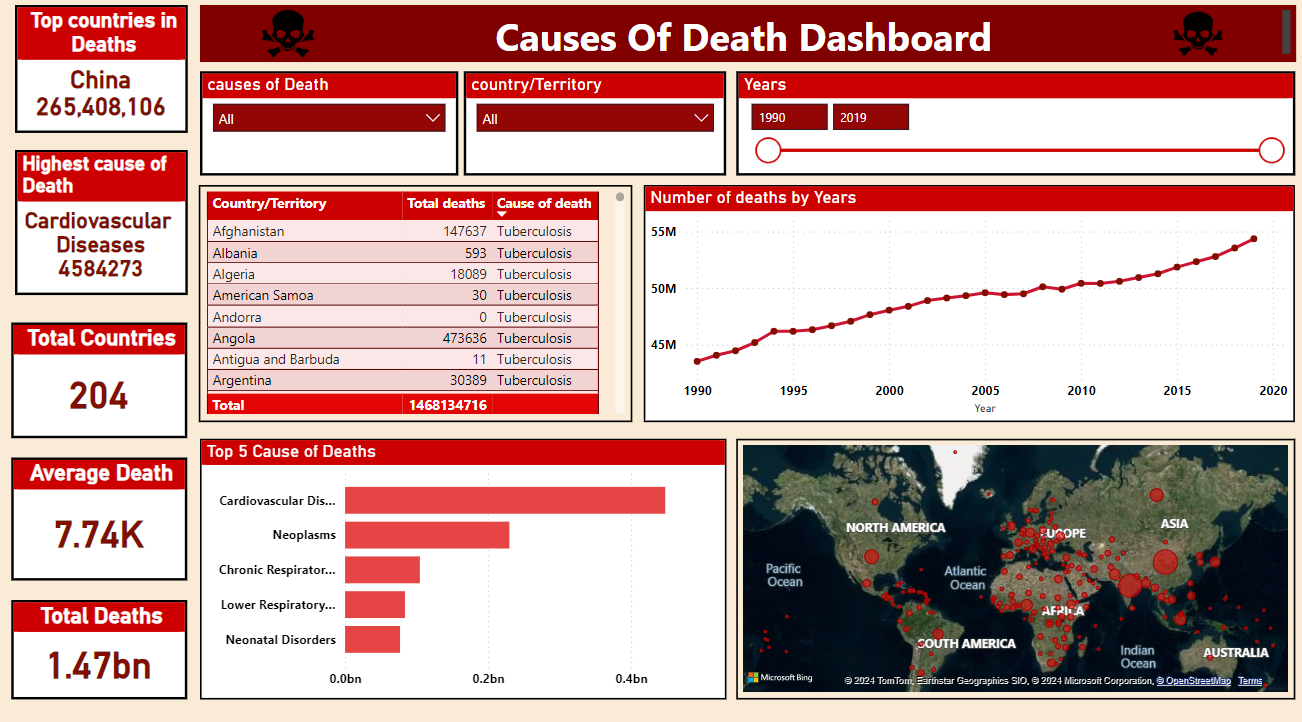

The dashboard page shown, as its layout file describes it:
{"tool":"powerbi","page":{"name":"Page 1","canvas":[1280,720],"ordinal":0},"visuals":[{"type":"lineChart","title":"Number of deaths by Years","fields":{"Category":["Causes of death (Cleaned).Year"],"Y":["Sum(Causes of death (Cleaned).number of deaths)"]},"box":[631.5,191.2,639.3,232.4],"z":1000},{"type":"tableEx","fields":{"Values":["Causes of death (Cleaned).Country/Territory","Sum(Causes of death (Cleaned).number of deaths)","Causes of death (Cleaned).Cause of death"]},"box":[195.1,191.2,425.6,232.4],"z":2000},{"type":"map","fields":{"Size":["Sum(Causes of death (Cleaned).number of deaths)"],"Category":["Causes of death (Cleaned).Country/Territory"]},"box":[722.9,440.6,548.6,256.3],"z":3000},{"type":"slicer","title":"country/Territory","fields":{"Values":["Causes of death (Cleaned).Country/Territory"]},"box":[455,79.4,258,102],"z":4000},{"type":"slicer","title":"Years","fields":{"Values":["Causes of death (Cleaned).Year"]},"box":[722.8,79.4,548.5,102],"z":5000},{"type":"card","title":"Total Countries","fields":{"Values":["Count(Causes of death (Cleaned).Country/Territory)"]},"box":[11.5,326.9,172.8,113.8],"z":6000},{"type":"textbox","box":[195.8,14.4,1075.7,56.2],"z":7000},{"type":"barChart","title":"Top 5 Cause of Deaths","fields":{"Y":["Sum(Causes of death (Cleaned).number of deaths)"],"Category":["Causes of death (Cleaned).Cause of deat"]},"box":[195.8,440.6,517,256.3],"z":8000},{"type":"card","title":"Average Death","fields":{"Values":["Avg(Causes of death (Cleaned).number of deaths)"]},"box":[11.5,459.4,172.8,121],"z":9000},{"type":"card","title":"Total Deaths","fields":{"Values":["Sum(Causes of death (Cleaned).number of deaths)"]},"box":[11.5,599,172.8,97.9],"z":10000},{"type":"image","box":[252,14.4,61.9,56.2],"z":11000},{"type":"image","box":[1147.7,14.4,57.6,56.2],"z":12000},{"type":"card","title":"Highest cause of Death","fields":{"Values":["Causes of death (Cleaned).HighestCauseAndit'sValue"]},"box":[14.4,157,169.9,142.6],"z":13000},{"type":"card","title":"Top countries in Deaths","fields":{"Values":["Causes of death (Cleaned).Top Country Deaths"]},"box":[14.4,14.4,169.9,125.3],"z":14000},{"type":"slicer","title":"causes of Death","fields":{"Values":["Causes of death (Cleaned).Cause of deat"]},"box":[195.8,79.2,253.4,102.2],"z":14500}]}

Visuals, with their boxes in screenshot pixels (x1, y1, x2, y2), scaled from the page's 1280x720 canvas onto the 1302x722 screenshot:
"Number of deaths by Years" lineChart: bbox=[642, 192, 1293, 425]
tableEx - Causes of death (Cleaned).Country/Territory x Sum(Causes of death (Cleaned).number of deaths): bbox=[198, 192, 631, 425]
map - Sum(Causes of death (Cleaned).number of deaths) x Causes of death (Cleaned).Country/Territory: bbox=[735, 442, 1293, 699]
"country/Territory" slicer: bbox=[463, 80, 725, 182]
"Years" slicer: bbox=[735, 80, 1293, 182]
"Total Countries" card: bbox=[12, 328, 187, 442]
textbox: bbox=[199, 14, 1293, 71]
"Top 5 Cause of Deaths" barChart: bbox=[199, 442, 725, 699]
"Average Death" card: bbox=[12, 461, 187, 582]
"Total Deaths" card: bbox=[12, 601, 187, 699]
image: bbox=[256, 14, 319, 71]
image: bbox=[1167, 14, 1226, 71]
"Highest cause of Death" card: bbox=[15, 157, 187, 300]
"Top countries in Deaths" card: bbox=[15, 14, 187, 140]
"causes of Death" slicer: bbox=[199, 79, 457, 182]
